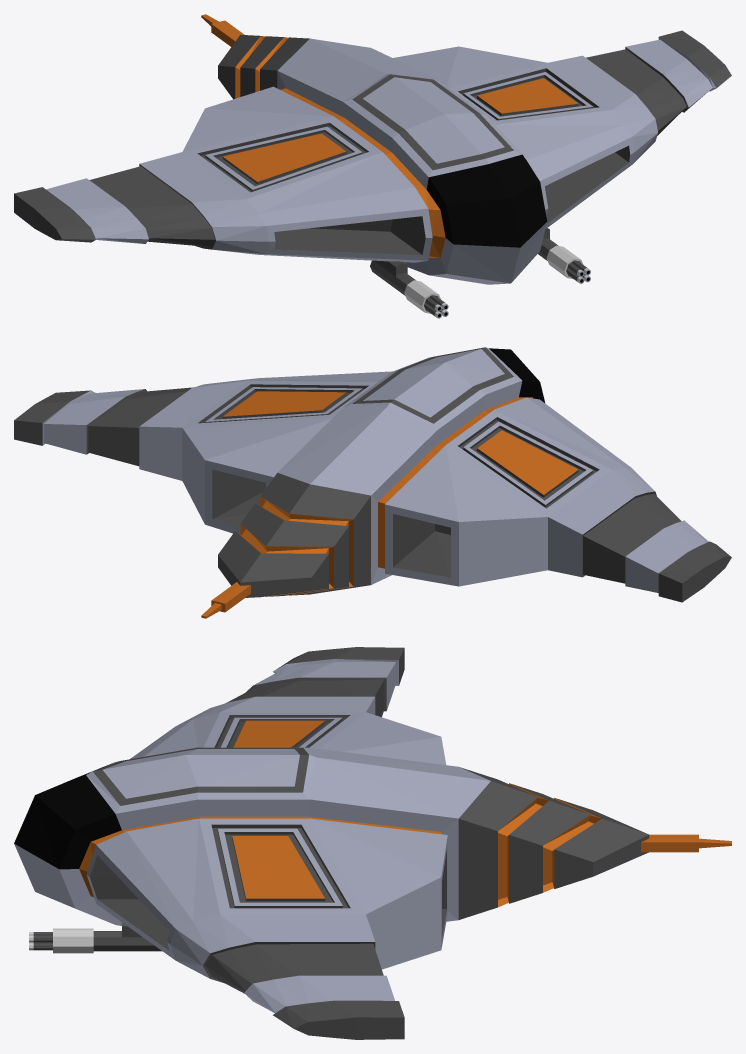
The model's file is Spaceship6_4.fbx.
3 renders of one model, top to bottom at view 1: azimuth 30°, elevation 25°; view 2: azimuth 150°, elevation 25°; view 3: azimuth 270°, elevation 25°, orthographic. The views are drawn at different scales.
Visible parts, largest first — view 1: Spaceship6_4; view 2: Spaceship6_4; view 3: Spaceship6_4.
Part boxes in pixels (box(x1,y1,x2,y2)): Spaceship6_4: box(14, 14, 731, 318); Spaceship6_4: box(14, 347, 731, 618); Spaceship6_4: box(14, 647, 731, 1039).
Size of the model in its own units: 1430 by 314 by 1171.
